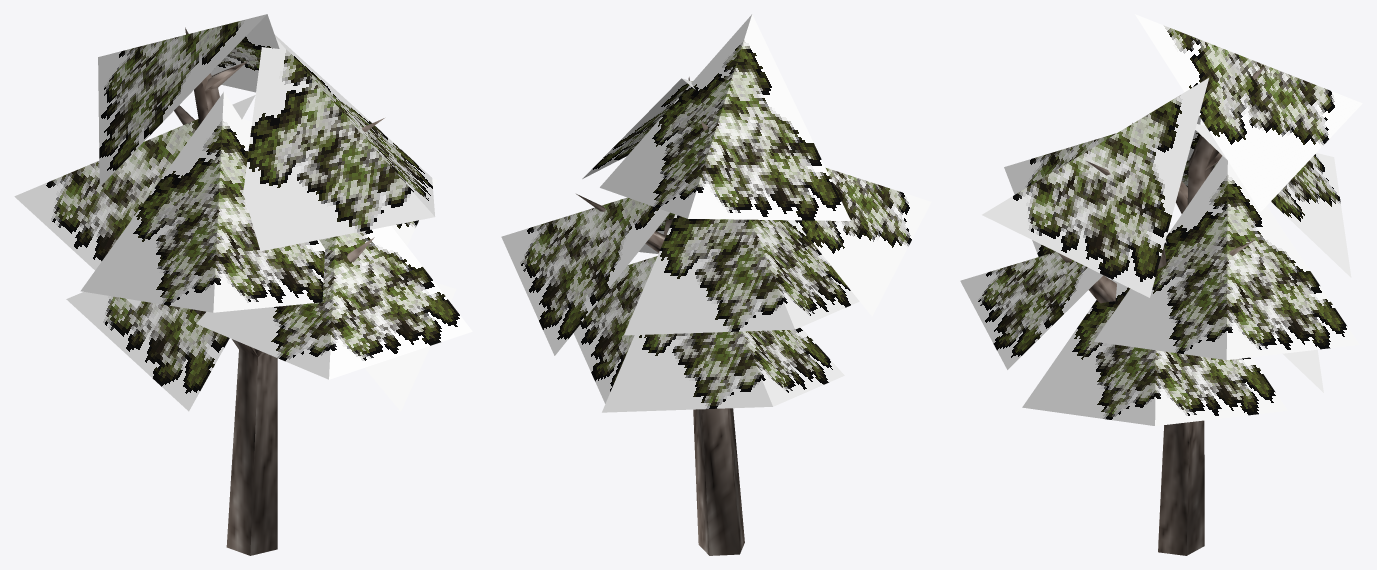
File: poplarsno_0.obj
The picture shows the model from 3 angles, left to right: view 1: azimuth 30°, elevation 25°; view 2: azimuth 150°, elevation 25°; view 3: azimuth 270°, elevation 25°; orthographic projection. The views are drawn at different scales.
Parts seen in each view (by area): view 1: poplarsno_0; view 2: poplarsno_0; view 3: poplarsno_0.
Boxes of the visible parts, x1,y1,x2,y2 form: poplarsno_0: (14, 14, 472, 555); poplarsno_0: (501, 14, 931, 555); poplarsno_0: (960, 14, 1362, 555).
Size of the model in its own units: 3.98 by 5.58 by 3.85.
